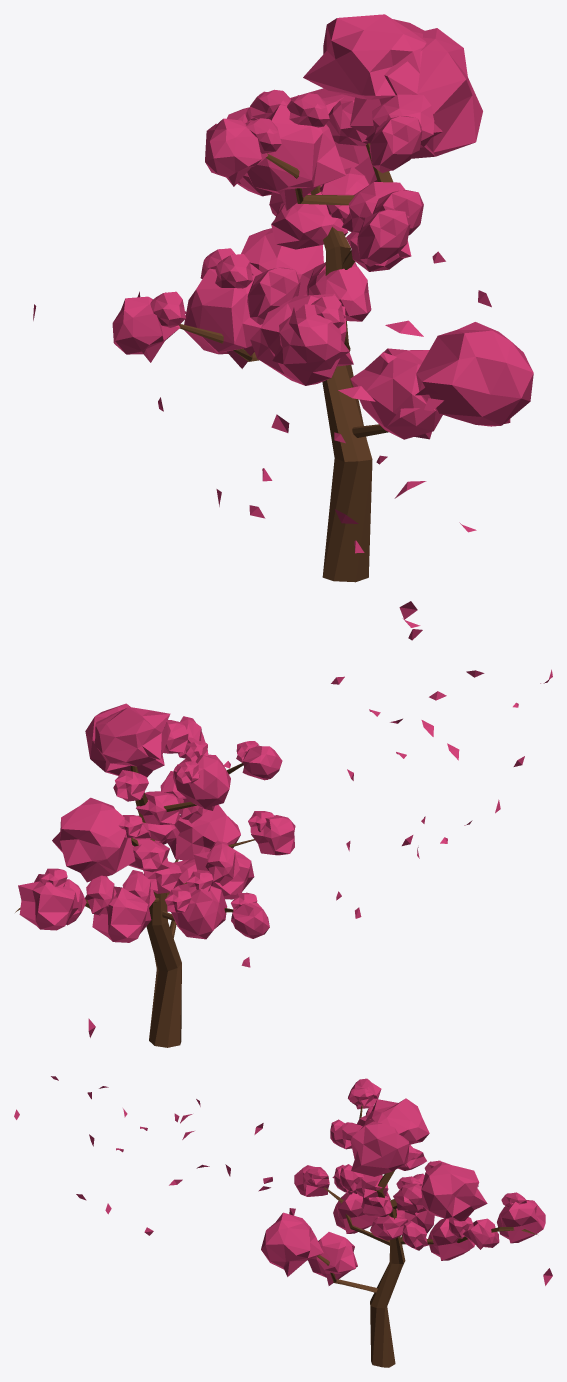
The model's file is cherry.fbx.
3 views of the same model, one above another, from view 1: azimuth 30°, elevation 25°; view 2: azimuth 150°, elevation 25°; view 3: azimuth 270°, elevation 25° (orthographic). The views are drawn at different scales.
Visible parts, largest first — view 1: Окружность; view 2: Окружность; view 3: Окружность.
Boxes of the visible parts, x1,y1,x2,y2 form: Окружность: (33,14,533,640); Окружность: (15,669,552,1047); Окружность: (14,1076,552,1367).
Bounding box in the file's own units: 249 × 309 × 562.
